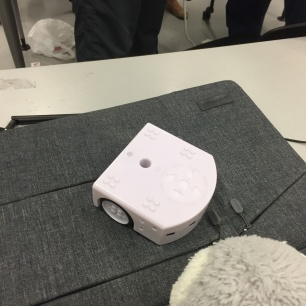thymio: (85, 121, 227, 247)
